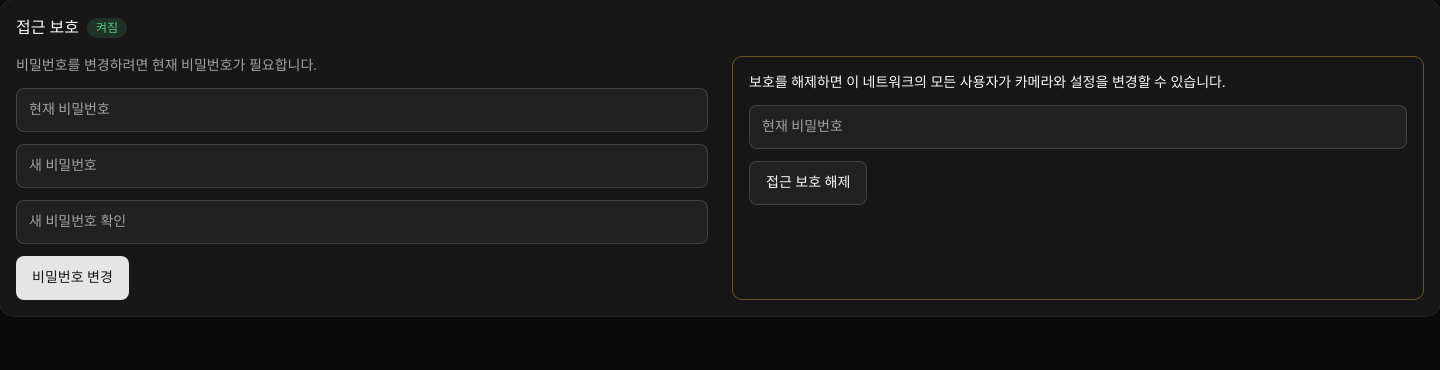
Test: AccessProtectionSettings › requires the current password for local protection changes and handles race responses
Type "old-password" into the password field labelled "현재 비밀번호" below "비밀번호를 변경하려면 현재 비밀번호가 필요합니다." at (362,110), box top-left (16, 88), bottom-right (708, 132)
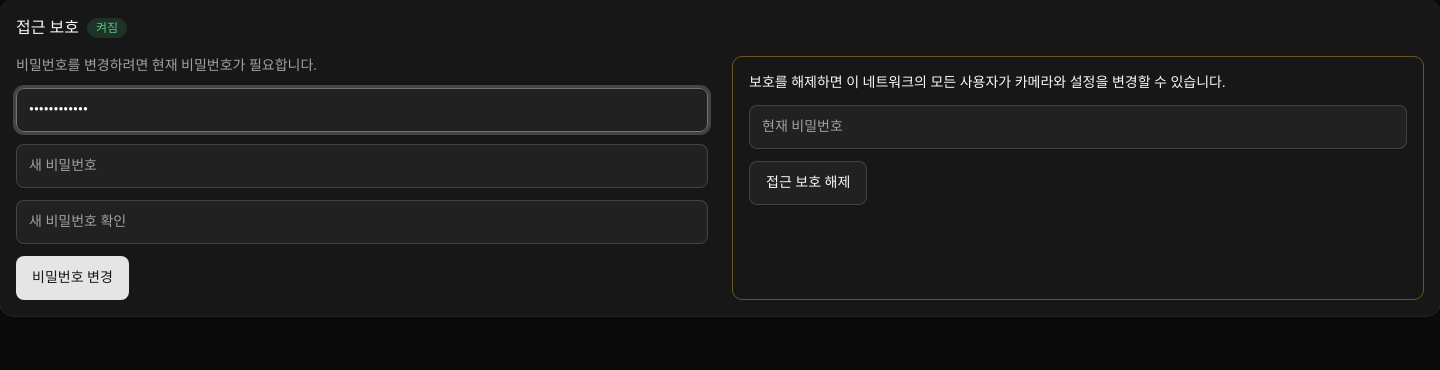
Type "new-password" into the password field labelled "새 비밀번호" at (362,166), box top-left (16, 144), bottom-right (708, 188)
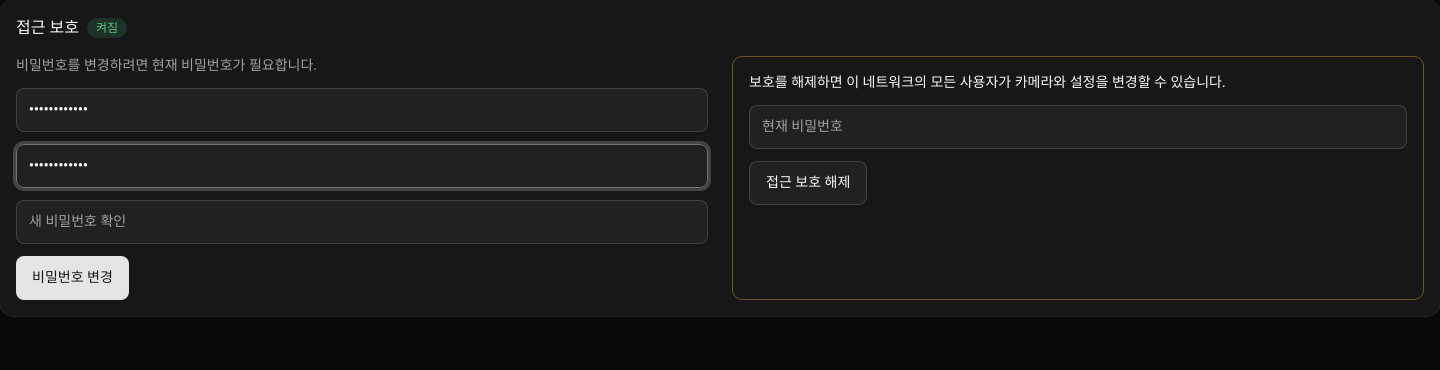
Type "new-password" into the password field labelled "새 비밀번호 확인" at (362,222), box top-left (16, 200), bottom-right (708, 244)
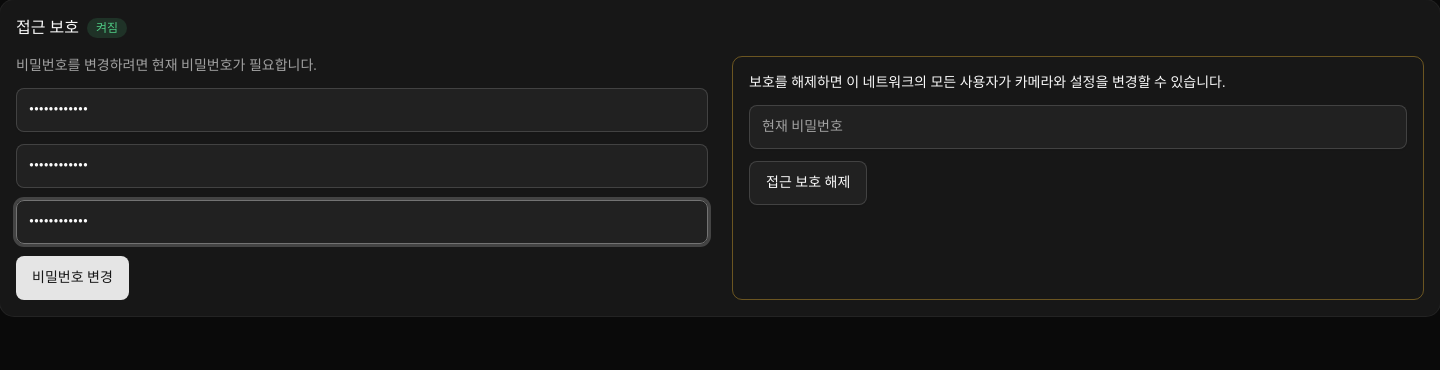
Click the button "비밀번호 변경" at (72,278), box top-left (16, 256), bottom-right (129, 300)
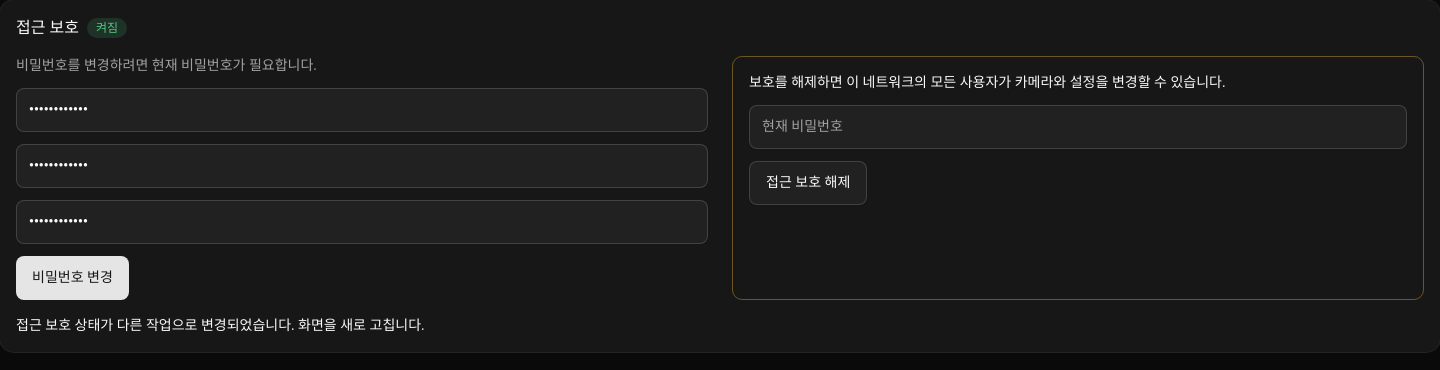
Expected: the message shows "다른 작업으로 변경", top-left (16, 318), bottom-right (424, 333)
